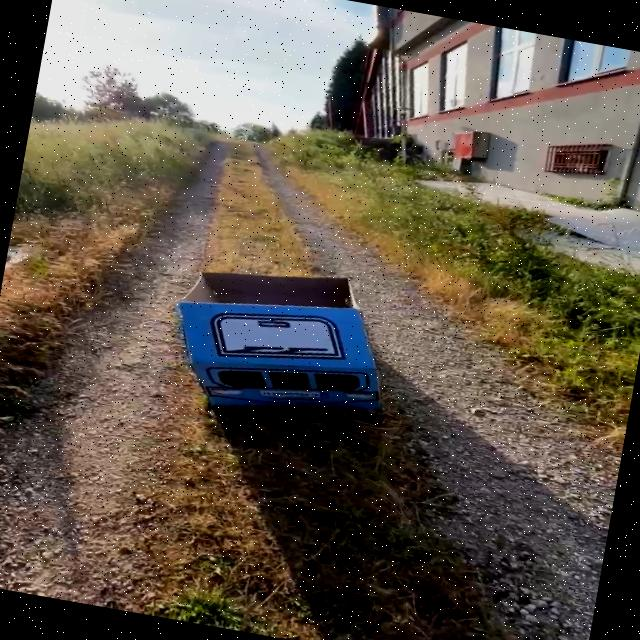blue_car: (138, 232, 456, 482)
